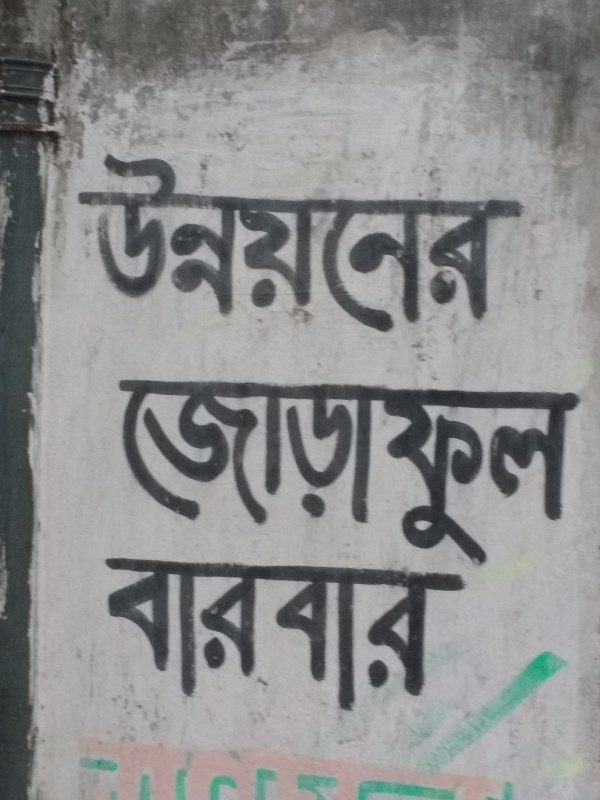text: (129, 372, 144, 579), (145, 372, 160, 579), (161, 372, 176, 579), (177, 372, 192, 579), (193, 372, 208, 579), (209, 372, 224, 579), (225, 372, 240, 579), (241, 372, 256, 579), (257, 372, 272, 579), (273, 372, 288, 579), (289, 372, 304, 579), (305, 372, 320, 579), (321, 372, 336, 579), (337, 372, 352, 579), (353, 372, 368, 579), (369, 372, 384, 579), (385, 372, 400, 579), (401, 372, 416, 579), (417, 372, 432, 579), (433, 372, 448, 579), (449, 372, 464, 579), (465, 372, 480, 579), (481, 372, 496, 579), (497, 372, 512, 579), (513, 372, 528, 579), (529, 372, 544, 579), (545, 372, 560, 579), (561, 372, 576, 579), (81, 149, 96, 342), (97, 149, 112, 342), (113, 149, 128, 342), (129, 149, 144, 342), (145, 149, 160, 342), (161, 149, 176, 342), (177, 149, 192, 342), (193, 149, 208, 342), (209, 149, 224, 342), (225, 149, 240, 342), (241, 149, 256, 342), (257, 149, 272, 342), (273, 149, 288, 342), (289, 149, 304, 342), (305, 149, 320, 342), (321, 149, 336, 342), (337, 149, 352, 342), (353, 149, 368, 342), (369, 149, 384, 342), (385, 149, 400, 342), (401, 149, 416, 342), (417, 149, 432, 342), (433, 149, 448, 342), (449, 149, 464, 342), (465, 149, 480, 342), (481, 149, 496, 342), (497, 149, 512, 342), (513, 149, 527, 342), (113, 550, 128, 726), (129, 550, 144, 726), (145, 550, 160, 726), (161, 550, 176, 726), (177, 550, 192, 726), (193, 550, 208, 726), (209, 550, 224, 726), (225, 550, 240, 726), (241, 550, 256, 726), (257, 550, 272, 726), (273, 550, 288, 726), (289, 550, 304, 726), (305, 550, 320, 726), (321, 550, 336, 726), (337, 550, 352, 726), (353, 550, 368, 726), (369, 550, 384, 726), (385, 550, 400, 726), (401, 550, 416, 726), (417, 550, 432, 726), (433, 550, 448, 726), (449, 550, 464, 726), (118, 372, 128, 579), (70, 149, 80, 342), (104, 550, 112, 726), (577, 372, 583, 579), (465, 550, 472, 726), (81, 729, 96, 800), (97, 729, 112, 800), (113, 729, 128, 800), (129, 729, 144, 800), (145, 729, 160, 800), (161, 729, 176, 800), (177, 729, 192, 800), (193, 729, 208, 800), (209, 729, 224, 800), (225, 729, 240, 800), (241, 729, 256, 800), (257, 729, 272, 800), (273, 729, 288, 800), (289, 729, 304, 800), (305, 729, 320, 800), (321, 729, 336, 800), (337, 729, 352, 800), (353, 729, 368, 800), (369, 729, 384, 800), (385, 729, 400, 800), (401, 729, 416, 800), (417, 729, 432, 800), (433, 729, 448, 800), (449, 729, 464, 800), (465, 729, 480, 800), (481, 729, 496, 800), (497, 729, 512, 800), (513, 729, 528, 800), (529, 729, 541, 800), (74, 729, 80, 800)
